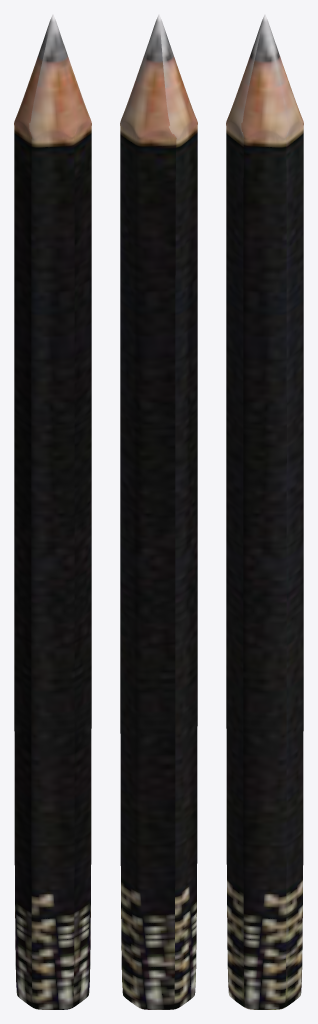
The model's file is Pencel2.fbx.
3 views of the same model, side by side, from view 1: azimuth 90°, elevation 25°; view 2: azimuth 150°, elevation 25°; view 3: azimuth 270°, elevation 25° (orthographic).
Visible parts, largest first — view 1: 円柱; view 2: 円柱; view 3: 円柱.
Boxes of the visible parts, box(x1,y1,x2,y2) form: 円柱: box(14, 14, 91, 1009); 円柱: box(120, 14, 197, 1009); 円柱: box(226, 14, 303, 1009).
Size of the model in its own units: 0.013 by 0.199 by 0.0142.
